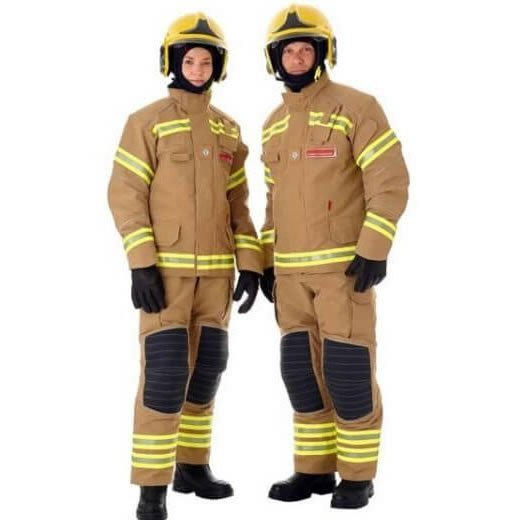epi: (249, 2, 409, 502), (113, 9, 263, 519)
